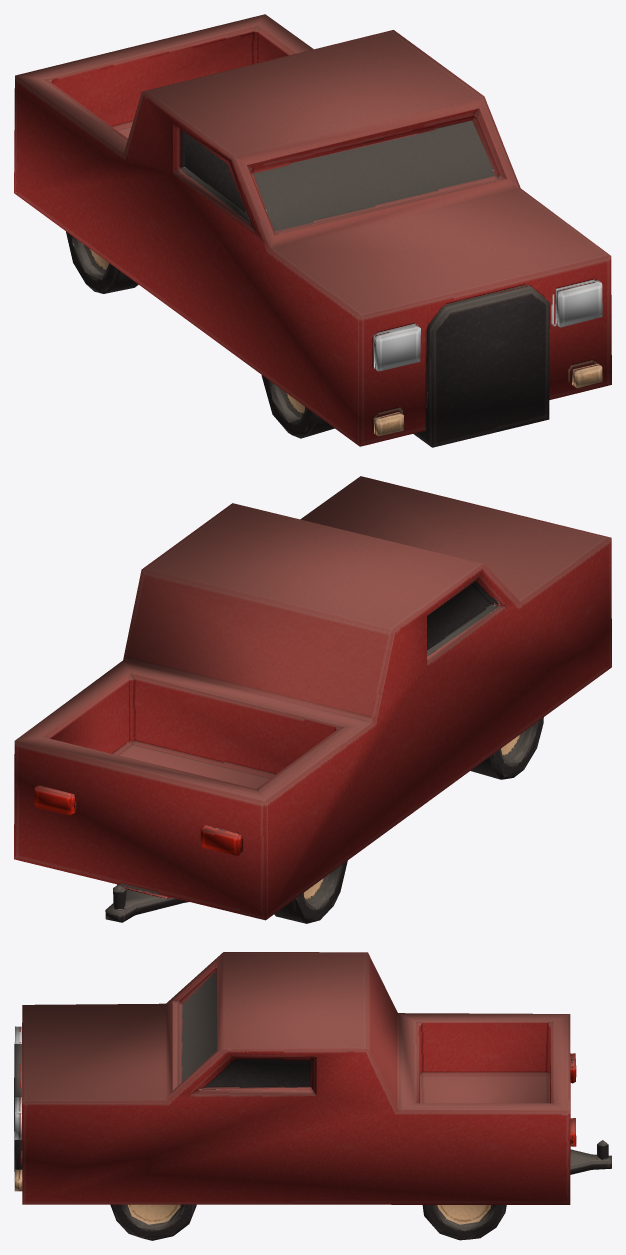
The model's file is car_LOD0.fbx.
3 views of the same model, one above another, from view 1: azimuth 30°, elevation 25°; view 2: azimuth 150°, elevation 25°; view 3: azimuth 270°, elevation 25° (orthographic). The views are drawn at different scales.
Parts seen in each view (by area): view 1: car_LOD0; view 2: car_LOD0; view 3: car_LOD0.
Boxes of the visible parts, x1,y1,x2,y2 form: car_LOD0: (14,14,611,447); car_LOD0: (14,476,611,923); car_LOD0: (14,952,611,1240).
Size of the model in its own units: 160 by 150 by 412.
